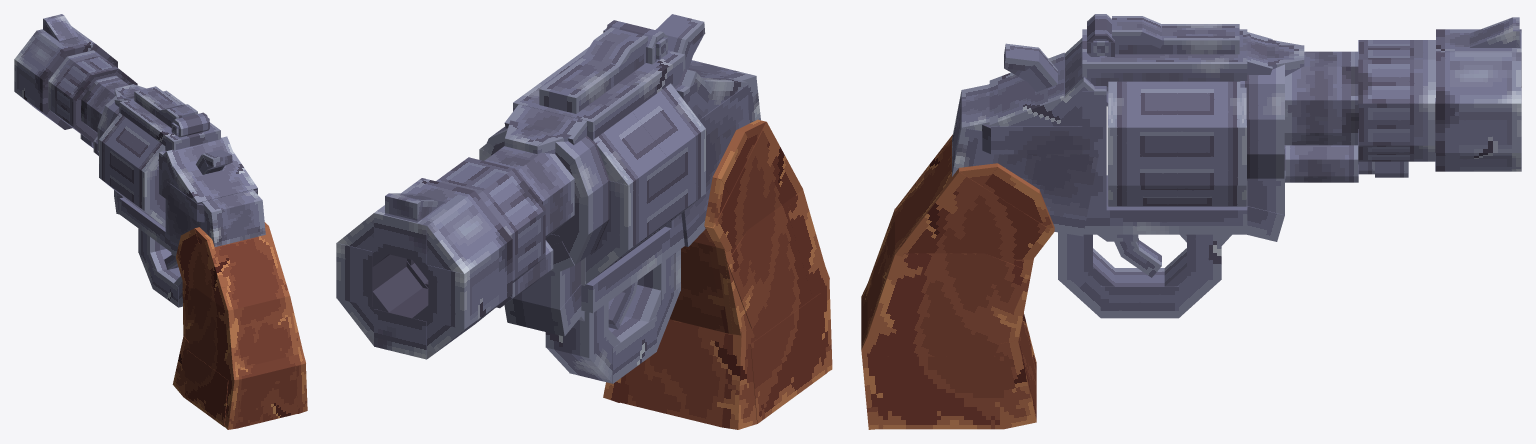
File: pistol.gltf
3 views of the same model, side by side, from view 1: azimuth 30°, elevation 25°; view 2: azimuth 150°, elevation 25°; view 3: azimuth 270°, elevation 25° (orthographic). The views are drawn at different scales.
Visible parts, largest first — view 1: cube (×42); view 2: cube (×60); view 3: cube (×56).
Boxes of the visible parts, box(x1,y1,x2,y2) form: cube (×42): box(14, 15, 307, 429); cube (×60): box(336, 14, 832, 429); cube (×56): box(861, 16, 1521, 429).
Bounding box in the file's own units: 0.5883 × 1.6 × 2.53.
1 material, 1 textured.
